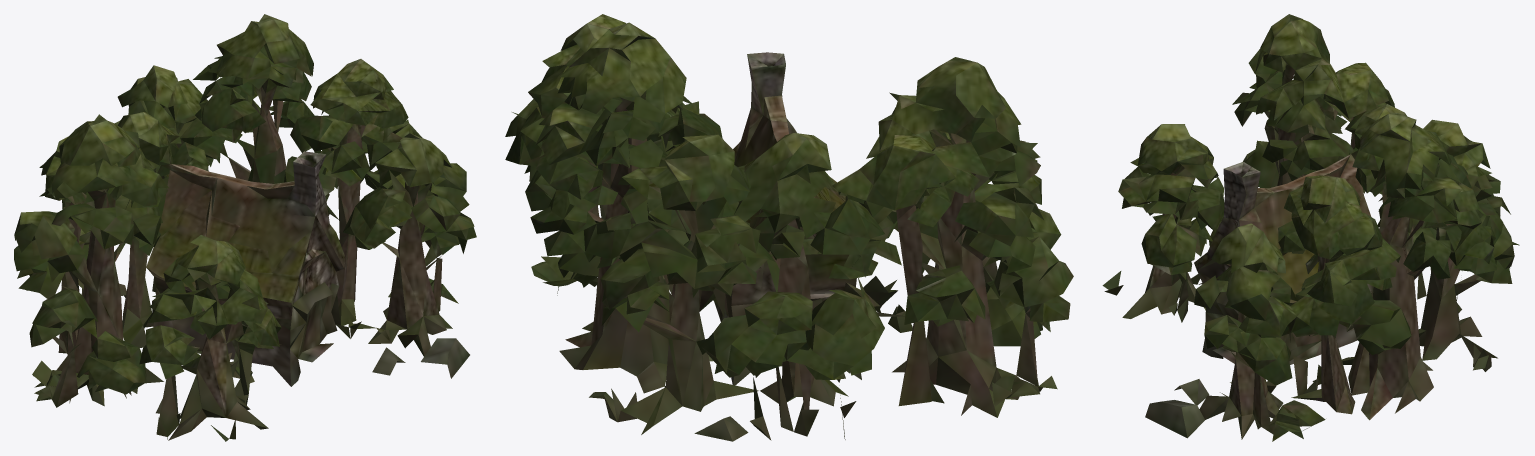
The model's file is woods.glb.
3 renders of one model, left to right at view 1: azimuth 30°, elevation 25°; view 2: azimuth 150°, elevation 25°; view 3: azimuth 270°, elevation 25°, orthographic. The views are drawn at different scales.
Size of the model in its own units: 2.23 by 1.42 by 1.93.
1 material, 1 textured.
